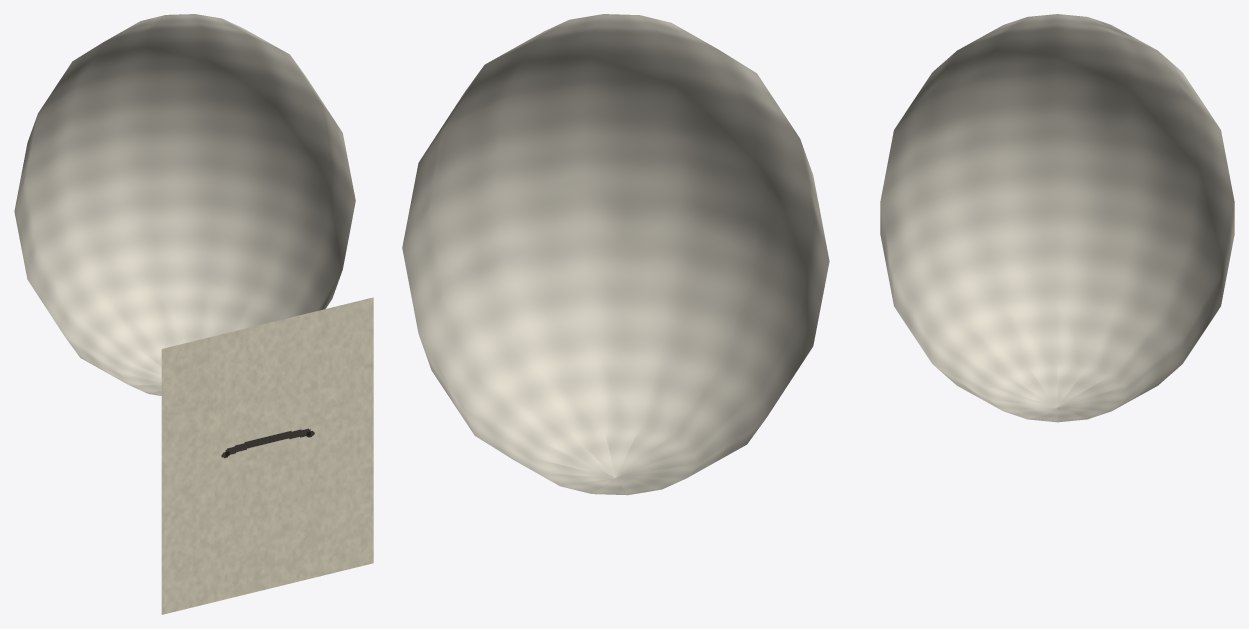
The model's file is paper_head.glb.
3 views of the same model, side by side, from view 1: azimuth 30°, elevation 25°; view 2: azimuth 150°, elevation 25°; view 3: azimuth 270°, elevation 25° (orthographic). The views are drawn at different scales.
Visible parts, largest first — view 1: Head, Face; view 2: Head; view 3: Head.
Part boxes in pixels (x1=…): Head: x1=14, y1=14, x2=355, y2=395; Face: x1=161, y1=297, x2=373, y2=614; Head: x1=402, y1=14, x2=829, y2=495; Head: x1=880, y1=14, x2=1234, y2=422.
Size of the model in its own units: 0.28 by 0.452 by 0.273.
2 materials, 2 textured.
